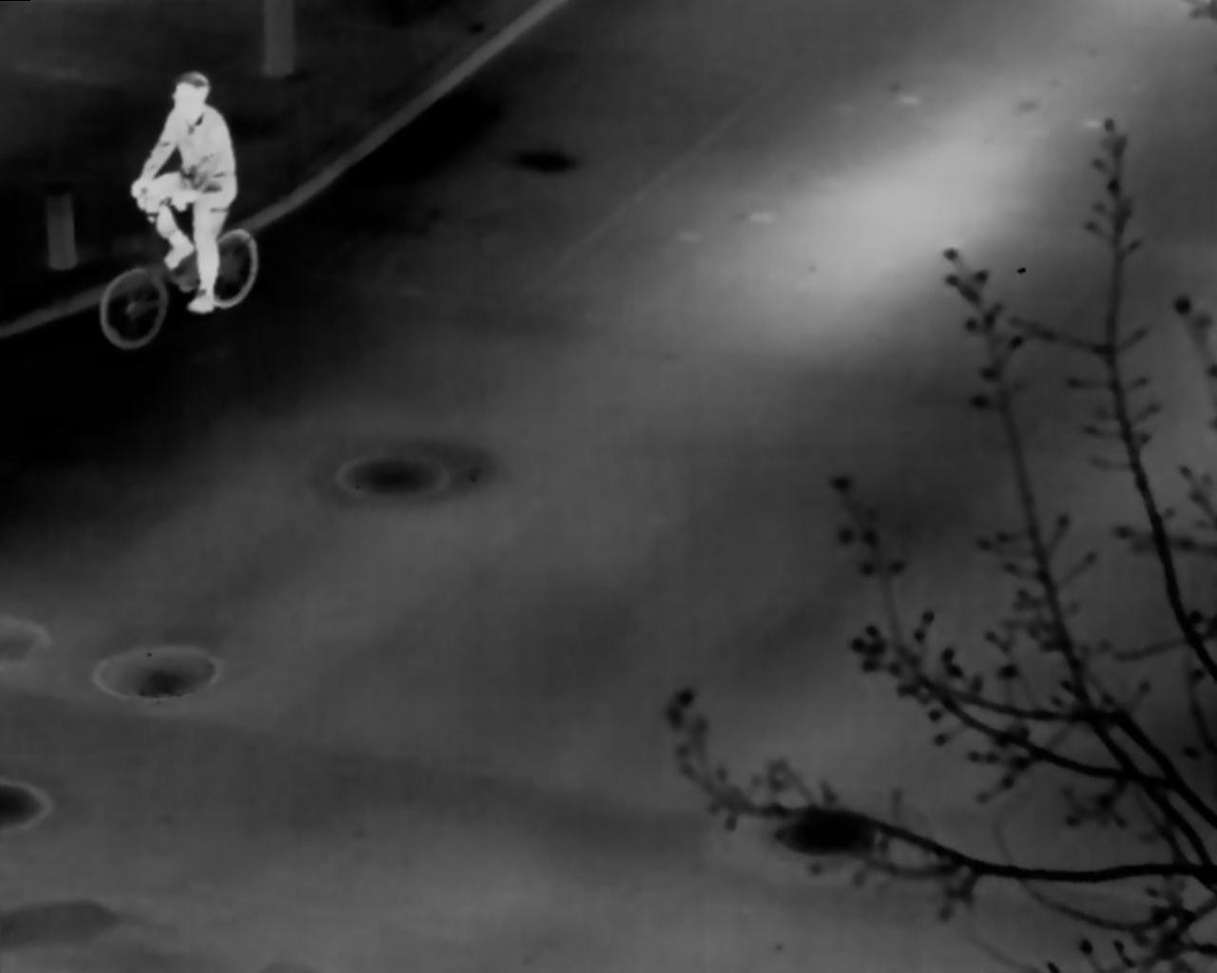person: (126, 71, 235, 310)
